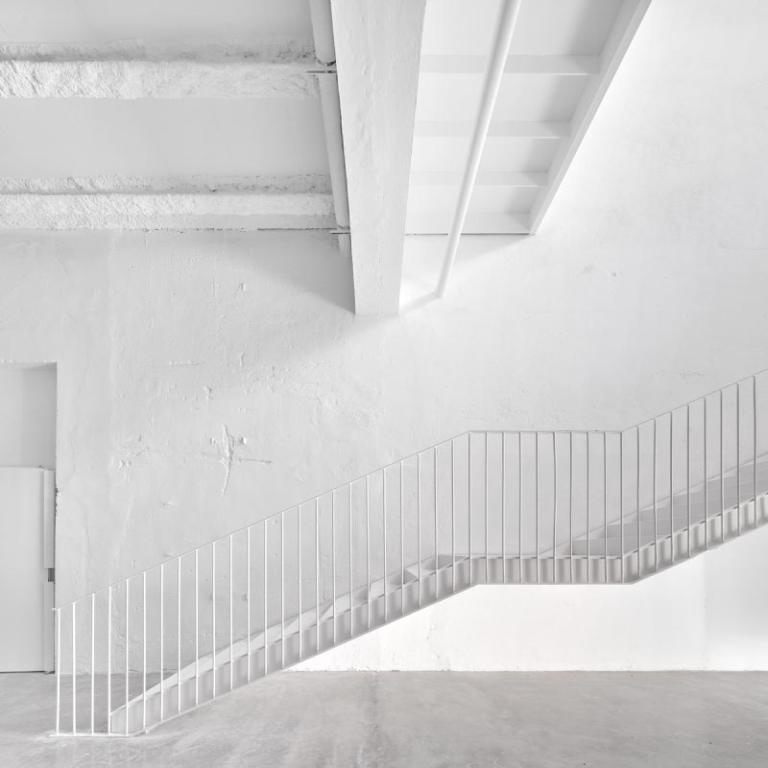white-walls: (150, 33, 739, 436)
